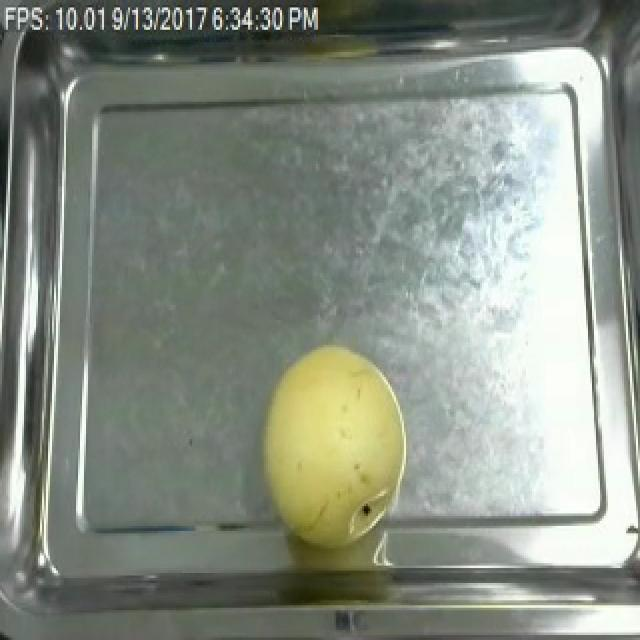Fruit: (248, 337, 418, 556)
